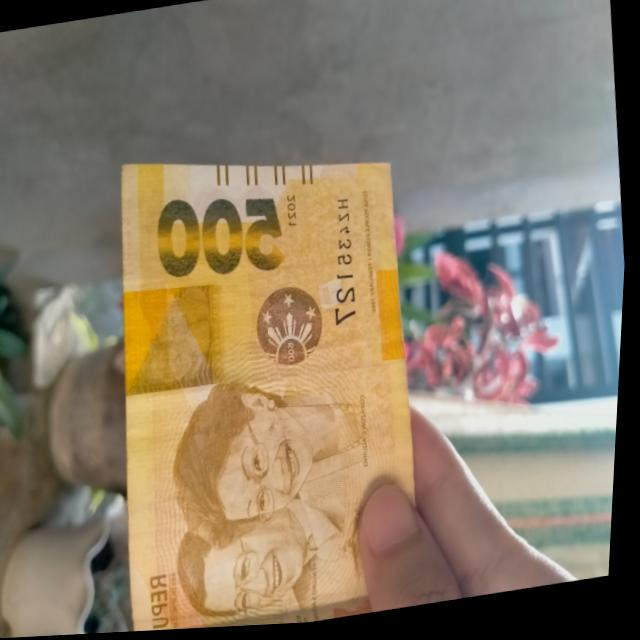concealed_value: (121, 277, 236, 401)
optically_variable_device: (251, 281, 338, 385)
serial_number: (316, 191, 379, 342)
value: (141, 182, 298, 304)
